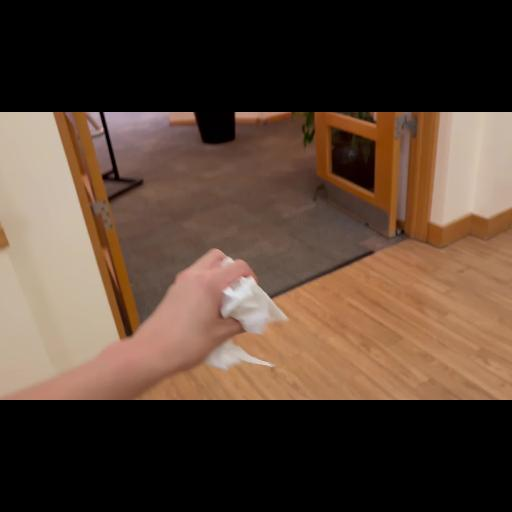napkin: (193, 252, 291, 376)
